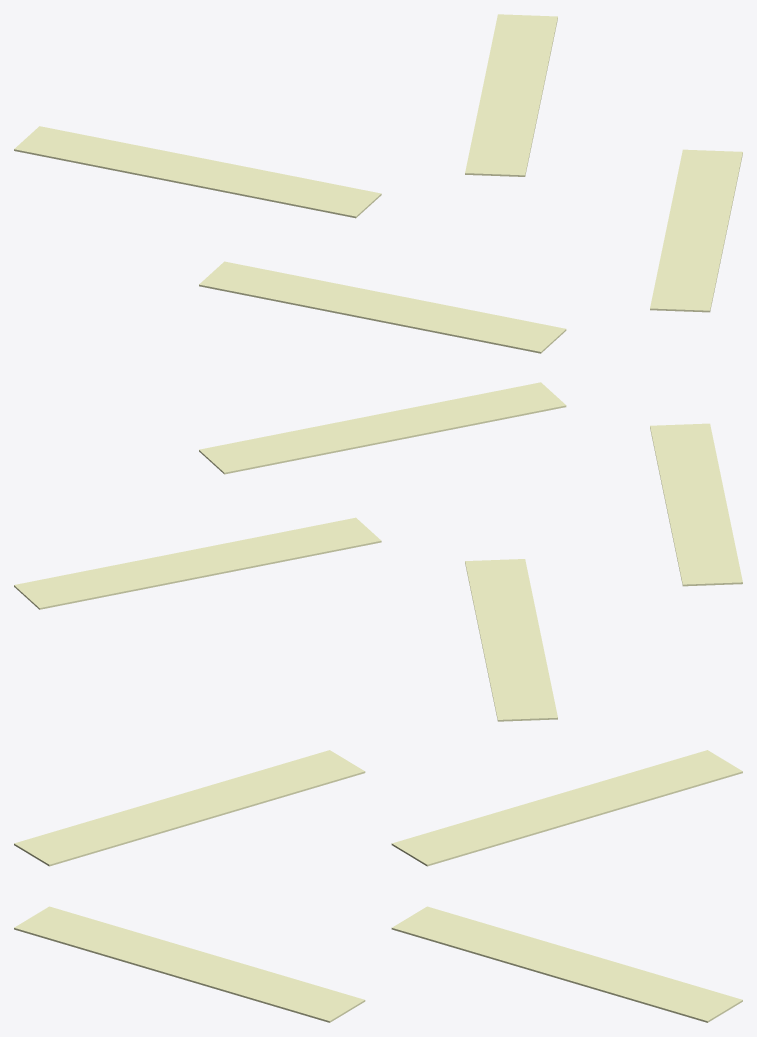
The model's file is marking_chevron_gore_white.glb.
3 views of the same model, one above another, from view 1: azimuth 30°, elevation 25°; view 2: azimuth 150°, elevation 25°; view 3: azimuth 270°, elevation 25° (orthographic). The views are drawn at different scales.
Visible parts, largest first — view 1: chevron_2, chevron_0, chevron_3, chevron_1; view 2: chevron_3, chevron_1, chevron_2, chevron_0; view 3: chevron_2, chevron_3, chevron_0, chevron_1.
Boxes of the visible parts, x1,y1,x2,y2 form: chevron_2: (199, 261, 566, 353); chevron_0: (14, 126, 381, 218); chevron_3: (650, 149, 742, 312); chevron_1: (465, 14, 557, 176); chevron_3: (199, 382, 566, 474); chevron_1: (14, 517, 381, 609); chevron_2: (650, 423, 742, 586); chevron_0: (465, 559, 557, 721); chevron_2: (14, 750, 365, 866); chevron_3: (14, 906, 365, 1022); chevron_0: (391, 750, 742, 866); chevron_1: (391, 906, 742, 1022).
Size of the model in its own units: 1.66 by 0.005 by 1.89.
